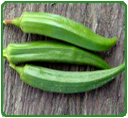okra: (2, 8, 120, 54), (5, 59, 123, 93), (4, 39, 110, 68)
